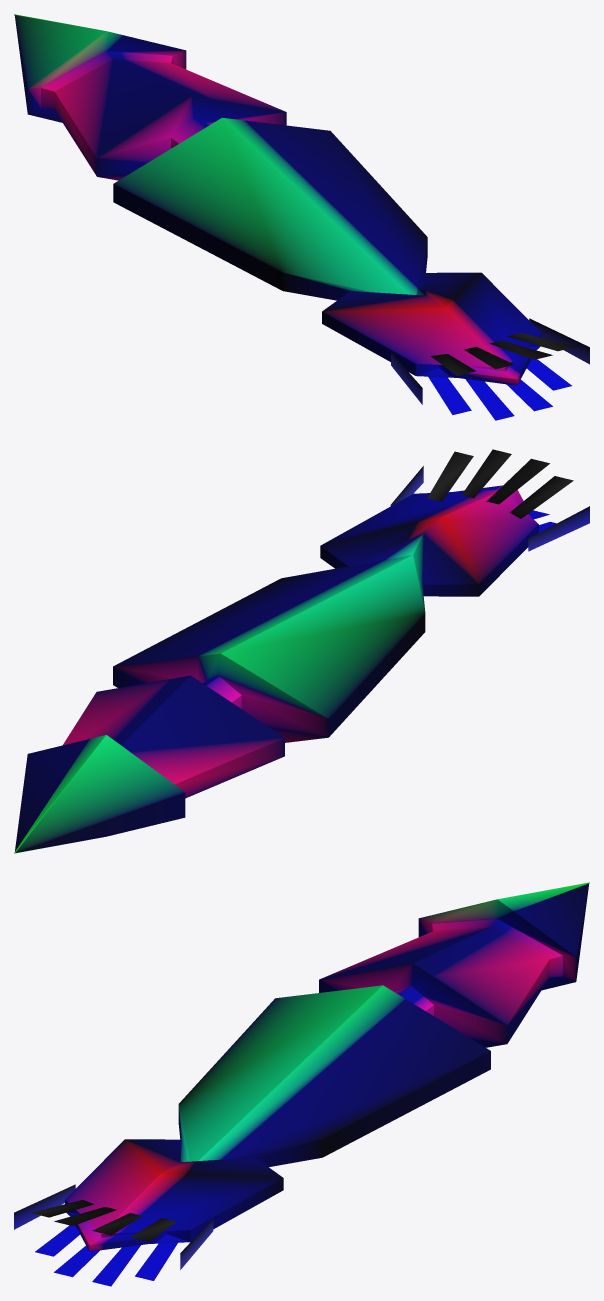
File: wpn_missile.fbx
3 views of the same model, one above another, from view 1: azimuth 30°, elevation 25°; view 2: azimuth 150°, elevation 25°; view 3: azimuth 330°, elevation 25° (orthographic).
Parts seen in each view (by area): view 1: wpn_missile; view 2: wpn_missile; view 3: wpn_missile.
Part boxes in pixels (left/top/right/bottom): wpn_missile: left=14, top=14, right=589, bottom=420; wpn_missile: left=14, top=449, right=589, bottom=853; wpn_missile: left=14, top=882, right=589, bottom=1286.
Size of the model in its own units: 525 by 237 by 2140.
